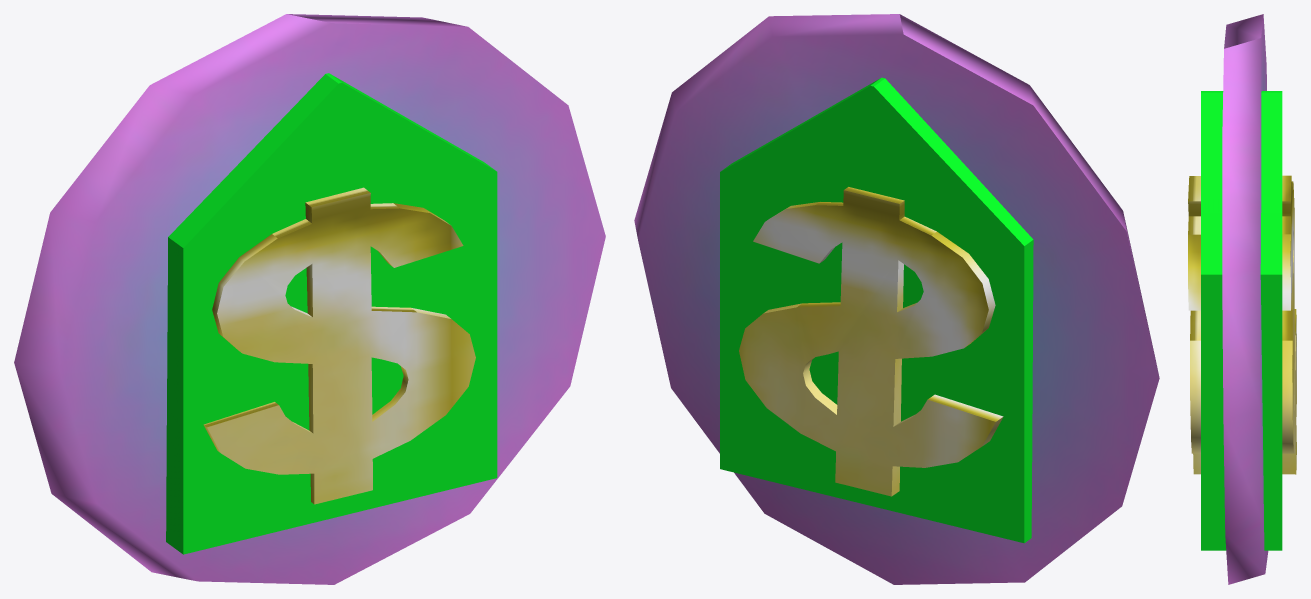
File: house.FBX
The picture shows the model from 3 angles, left to right: view 1: azimuth 30°, elevation 25°; view 2: azimuth 150°, elevation 25°; view 3: azimuth 270°, elevation 25°; orthographic projection. The views are drawn at different scales.
Parts seen in each view (by area): view 1: house1; view 2: house1; view 3: house1.
Part boxes in pixels (left/top/right/bottom): house1: left=14, top=14, right=605, bottom=584; house1: left=634, top=14, right=1159, bottom=584; house1: left=1188, top=14, right=1296, bottom=584.
Bounding box in the file's own units: 41.18 × 39.31 × 7.62.
